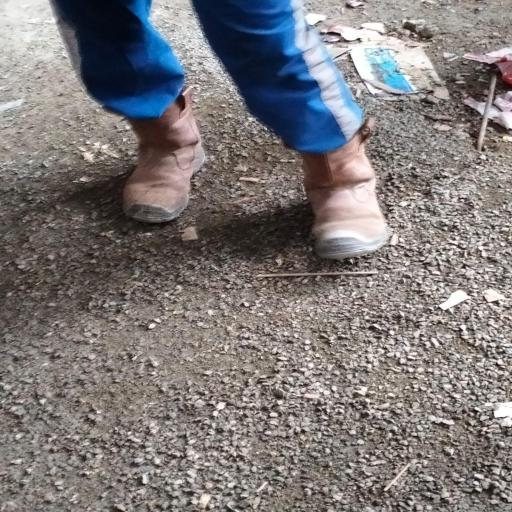safety_shoe: (293, 132, 400, 260), (114, 90, 205, 224)
